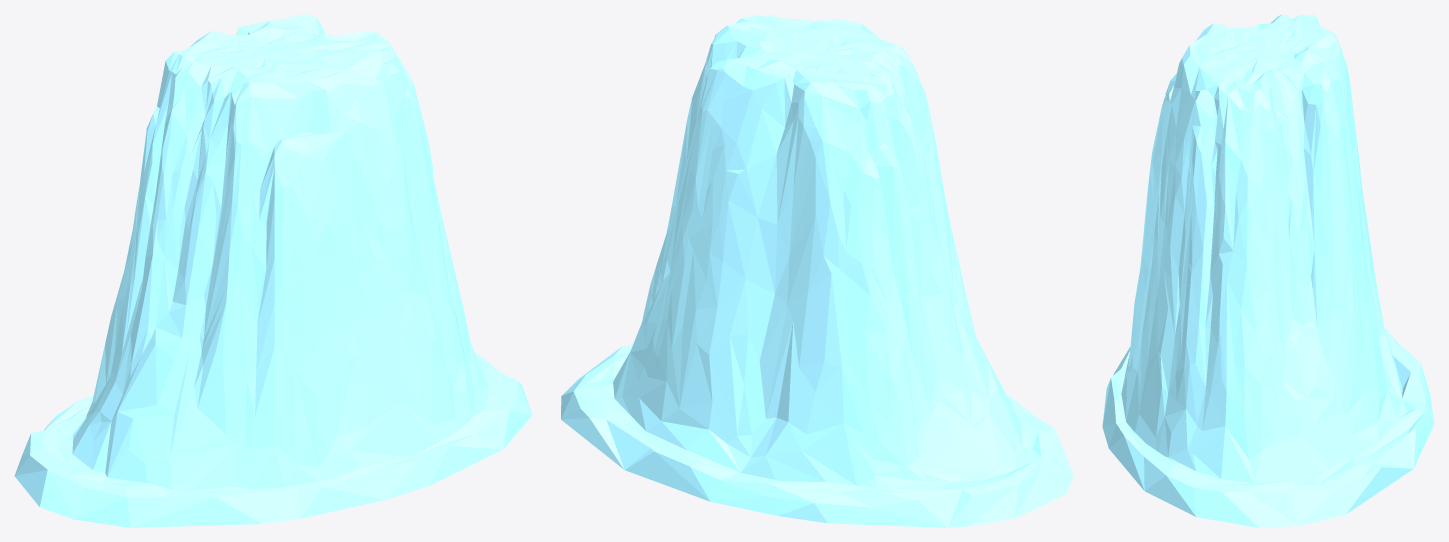
Rendered from Obstacle_2.glb.
The picture shows the model from 3 angles, left to right: view 1: azimuth 30°, elevation 25°; view 2: azimuth 150°, elevation 25°; view 3: azimuth 270°, elevation 25°; orthographic projection. The views are drawn at different scales.
Parts seen in each view (by area): view 1: Obstacle_2; view 2: Obstacle_2; view 3: Obstacle_2.
Boxes of the visible parts, x1,y1,x2,y2 form: Obstacle_2: (14, 14, 532, 527); Obstacle_2: (561, 14, 1073, 527); Obstacle_2: (1102, 14, 1434, 527).
Size of the model in its own units: 11.23 by 8.74 by 7.05.
